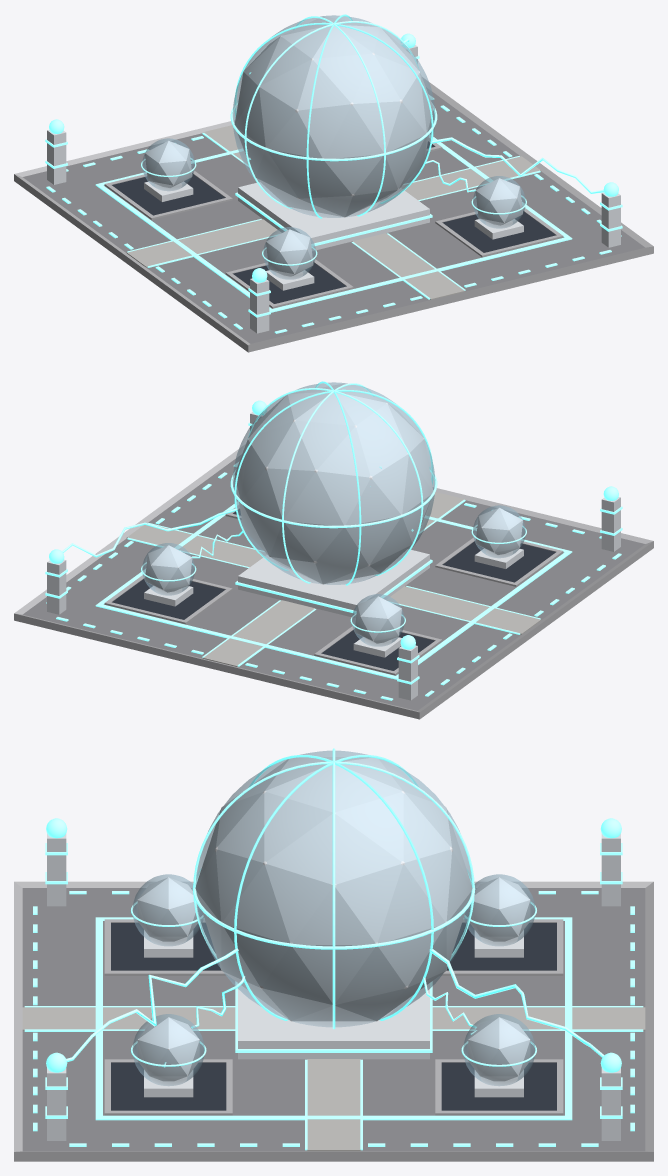
The model's file is Glass-dome.glb.
The picture shows the model from 3 angles, top to bottom: view 1: azimuth 30°, elevation 25°; view 2: azimuth 150°, elevation 25°; view 3: azimuth 270°, elevation 25°; orthographic projection. The views are drawn at different scales.
Parts seen in each view (by area): view 1: Base_Glass_Dome, Dome_Glass, Dome_Frame, Dome_Plaza_Plate, Dome_Plinth, Dome_Bed_Grass, Dome_Path_X, Dome_Path_Y, Dome_Square_Trim, Dome_Bed_Curbs, Mini_Dome_3_Glass, Mini_Dome_2_Glass (+20 smaller); view 2: Base_Glass_Dome, Dome_Glass, Dome_Frame, Dome_Plaza_Plate, Dome_Plinth, Dome_Bed_Grass, Dome_Path_X, Dome_Path_Y, Dome_Square_Trim, Dome_Bed_Curbs, Mini_Dome_4_Glass, Mini_Dome_1_Glass (+20 smaller); view 3: Base_Glass_Dome, Dome_Glass, Dome_Frame, Dome_Plaza_Plate, Dome_Bed_Grass, Dome_Plinth, Dome_Path_Y, Dome_Square_Trim, Dome_Bed_Curbs, Dome_Path_X, Mini_Dome_1_Glass, Mini_Dome_2_Glass (+25 smaller).
Boxes of the visible parts, <box> form: Base_Glass_Dome: <box>14,77,653,352</box>; Dome_Glass: <box>232,15,435,217</box>; Dome_Frame: <box>234,16,433,217</box>; Dome_Plaza_Plate: <box>104,148,563,308</box>; Dome_Plinth: <box>238,182,429,250</box>; Dome_Bed_Grass: <box>112,142,555,303</box>; Dome_Path_X: <box>127,156,541,267</box>; Dome_Path_Y: <box>203,125,464,299</box>; Dome_Square_Trim: <box>95,134,572,312</box>; Dome_Bed_Curbs: <box>104,138,563,308</box>; Mini_Dome_3_Glass: <box>142,138,194,190</box>; Mini_Dome_2_Glass: <box>473,176,525,228</box>; Base_Glass_Dome: <box>14,444,653,719</box>; Dome_Glass: <box>232,382,435,584</box>; Dome_Frame: <box>234,383,433,584</box>; Dome_Plaza_Plate: <box>104,515,563,675</box>; Dome_Plinth: <box>238,549,429,617</box>; Dome_Bed_Grass: <box>112,509,555,670</box>; Dome_Path_X: <box>126,525,540,634</box>; Dome_Path_Y: <box>203,492,464,666</box>; Dome_Square_Trim: <box>95,501,572,679</box>; Dome_Bed_Curbs: <box>104,505,563,675</box>; Mini_Dome_4_Glass: <box>473,505,525,557</box>; Mini_Dome_1_Glass: <box>142,543,194,595</box>; Base_Glass_Dome: <box>14,881,653,1161</box>; Dome_Glass: <box>196,750,471,1026</box>; Dome_Frame: <box>195,757,472,1021</box>; Dome_Plaza_Plate: <box>103,921,564,1115</box>; Dome_Bed_Grass: <box>111,923,556,1110</box>; Dome_Plinth: <box>238,983,429,1059</box>; Dome_Path_Y: <box>22,1007,645,1030</box>; Dome_Square_Trim: <box>95,917,572,1120</box>; Dome_Bed_Curbs: <box>104,919,563,1115</box>; Dome_Path_X: <box>307,1059,360,1151</box>; Mini_Dome_1_Glass: <box>463,1014,535,1085</box>; Mini_Dome_2_Glass: <box>132,1014,204,1085</box>.
Bounding box in the file's own units: 60 × 27.4 × 60.
